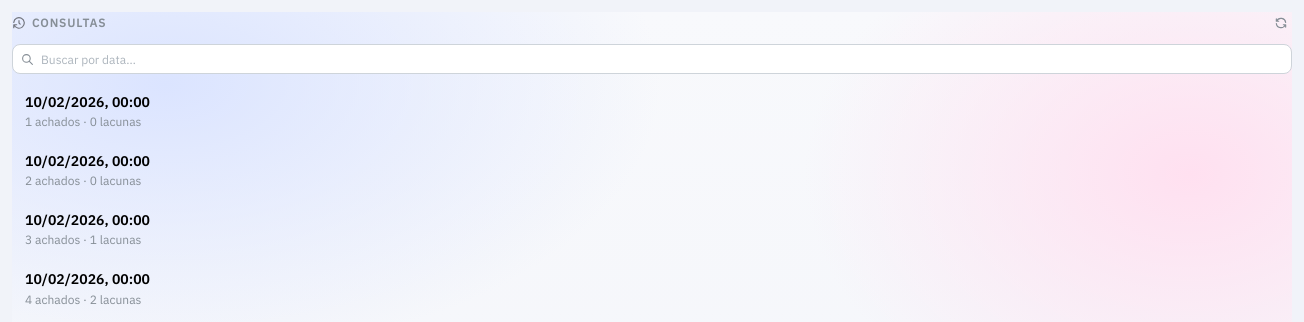
it: HistoryPanel: mostra mensagem quando busca nao retorna resultados
Step 1. Type "nao existe" into the field with placeholder "Buscar por data…" → [652, 59], box [12, 44, 1292, 74]
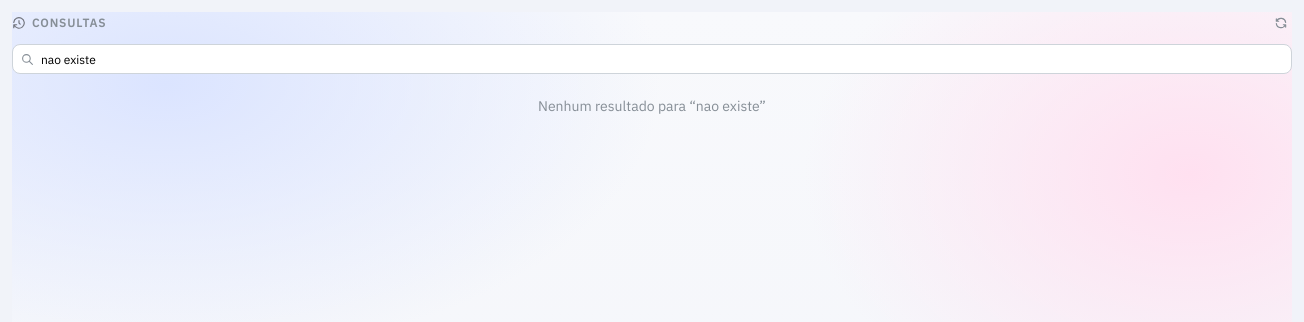
Check: the text "Nenhum resultado para “nao existe”" is shown, box [538, 97, 766, 115]
